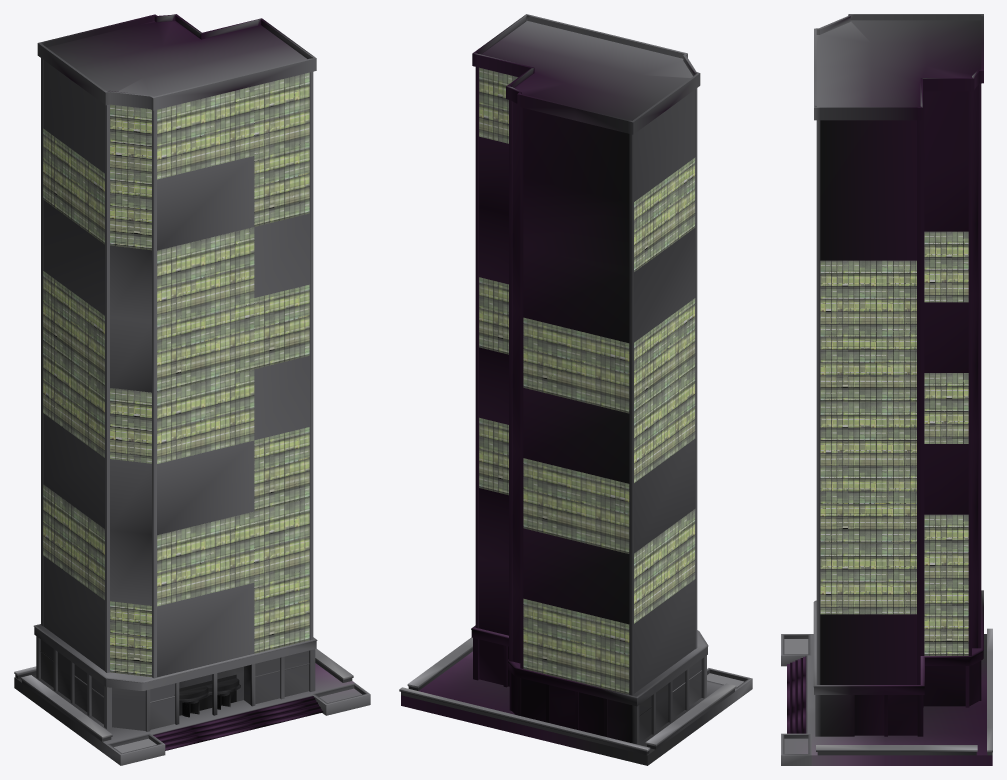
File: downtown_skyscraper_3.FBX
3 renders of one model, left to right at view 1: azimuth 30°, elevation 25°; view 2: azimuth 150°, elevation 25°; view 3: azimuth 270°, elevation 25°, orthographic.
Parts seen in each view (by area): view 1: downtown_skyscraper_3, em_win_dwtn_skyscraper_3; view 2: downtown_skyscraper_3, em_win_dwtn_skyscraper_3; view 3: downtown_skyscraper_3, em_win_dwtn_skyscraper_3.
Part boxes in pixels (x1,y1,x2,y2): downtown_skyscraper_3: (14, 14, 370, 765); em_win_dwtn_skyscraper_3: (43, 72, 309, 676); downtown_skyscraper_3: (399, 14, 752, 765); em_win_dwtn_skyscraper_3: (479, 67, 695, 694); downtown_skyscraper_3: (781, 14, 992, 765); em_win_dwtn_skyscraper_3: (820, 231, 968, 655).
Size of the model in its own units: 242 by 591 by 177.
